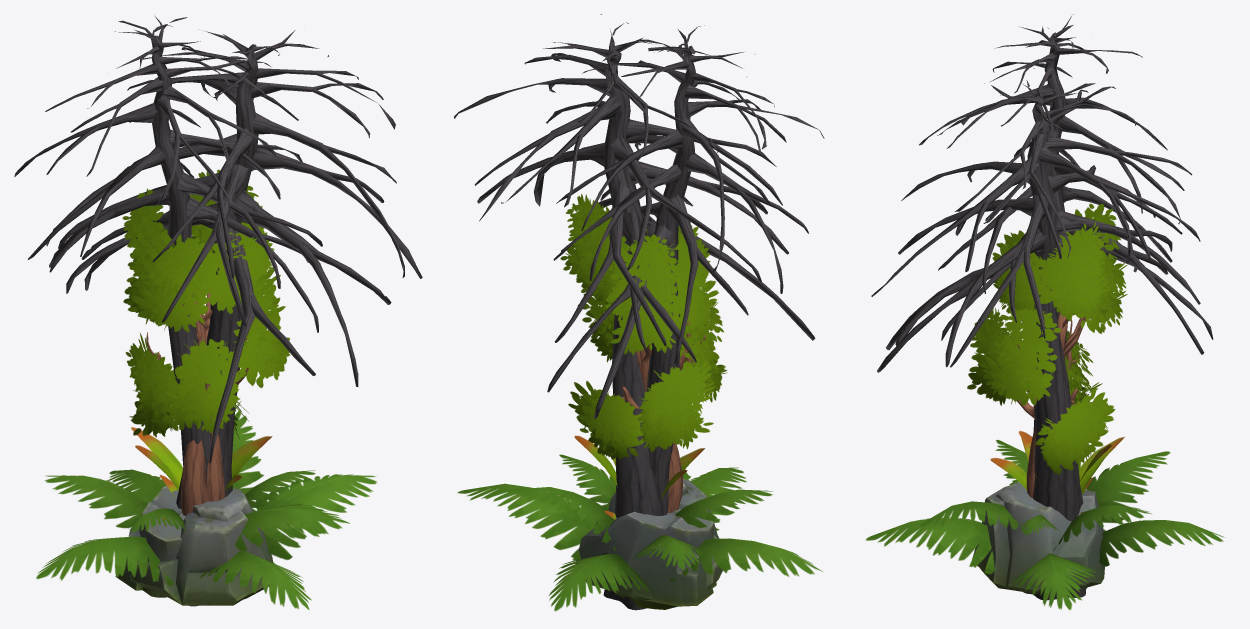
Rendered from nature.glb.
The picture shows the model from 3 angles, left to right: view 1: azimuth 30°, elevation 25°; view 2: azimuth 150°, elevation 25°; view 3: azimuth 270°, elevation 25°; orthographic projection. The views are drawn at different scales.
Visible parts, largest first — view 1: DeadTree_4, CommonTree_3, Fern_1, DeadTree_3, Rock_Medium_1, CommonTree_4, Rock_Medium_2, Plant_1_Big; view 2: DeadTree_4, CommonTree_3, DeadTree_3, Fern_1, Rock_Medium_2, CommonTree_4, Rock_Medium_1, Plant_1_Big; view 3: DeadTree_4, Fern_1, CommonTree_3, DeadTree_3, CommonTree_4, Rock_Medium_1, Rock_Medium_2, Plant_1_Big.
Boxes of the visible parts, x1,y1,x2,y2 form: DeadTree_4: (46,30,422,606); CommonTree_3: (122,171,290,501); Fern_1: (36,411,377,609); DeadTree_3: (14,16,322,484); Rock_Medium_1: (129,488,272,605); CommonTree_4: (127,169,280,515); Rock_Medium_2: (115,486,185,597); Plant_1_Big: (131,427,272,520); DeadTree_4: (454,14,815,610); CommonTree_3: (568,200,727,459); DeadTree_3: (540,25,824,512); Fern_1: (457,454,822,611); Rock_Medium_2: (575,508,716,606); CommonTree_4: (560,193,710,512); Rock_Medium_1: (596,478,722,609); Plant_1_Big: (574,435,705,519); DeadTree_4: (871,68,1213,600); Fern_1: (865,440,1224,609); CommonTree_3: (967,212,1127,497); DeadTree_3: (919,14,1204,599); CommonTree_4: (989,203,1127,469); Rock_Medium_1: (972,482,1073,594); Rock_Medium_2: (1058,490,1104,588); Plant_1_Big: (990,431,1124,530).
Bounding box in the file's own units: 9.05 × 13.27 × 8.49.
Materials: 8 (8 with a texture image).
